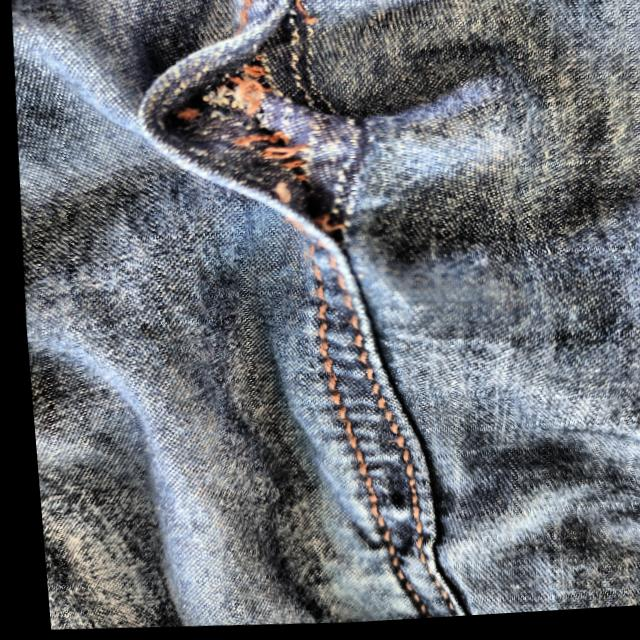seam: (106, 7, 374, 247)
